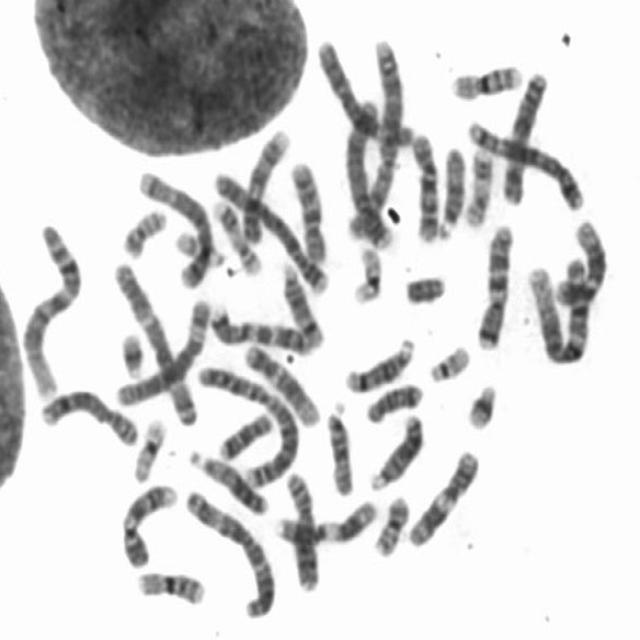A1: (19, 219, 83, 401), (524, 258, 592, 366)
A2: (343, 33, 407, 247), (195, 360, 300, 487)
A3: (110, 259, 200, 425), (182, 486, 276, 620)
B4: (210, 169, 330, 297), (343, 99, 393, 252)
B5: (464, 116, 585, 213), (136, 168, 214, 292)
C10: (287, 156, 328, 264), (408, 128, 442, 247)
C11: (403, 446, 481, 549), (270, 496, 379, 549)
C12: (242, 339, 321, 428), (551, 215, 608, 308)
C6: (112, 294, 215, 409), (314, 34, 413, 150)
C7: (206, 302, 322, 354), (477, 223, 517, 355)
C8: (37, 384, 139, 447), (282, 467, 320, 593)
C9: (236, 124, 292, 245), (117, 480, 181, 570)
D13: (185, 446, 270, 516), (366, 409, 424, 492)
D14: (341, 334, 415, 396), (278, 257, 326, 350)
D15: (434, 142, 468, 242), (322, 404, 355, 497)
E16: (446, 60, 523, 102), (133, 566, 208, 607)
E17: (209, 197, 262, 276), (460, 145, 494, 230)
E18: (214, 409, 274, 462), (362, 379, 424, 425)
F19: (129, 414, 168, 484), (348, 243, 384, 306)
F20: (369, 491, 412, 559), (118, 204, 170, 260)
G21: (464, 377, 498, 433), (116, 327, 146, 380)
G22: (172, 227, 226, 268), (426, 340, 472, 384)
X: (498, 66, 550, 206)
Y: (400, 272, 446, 307)
